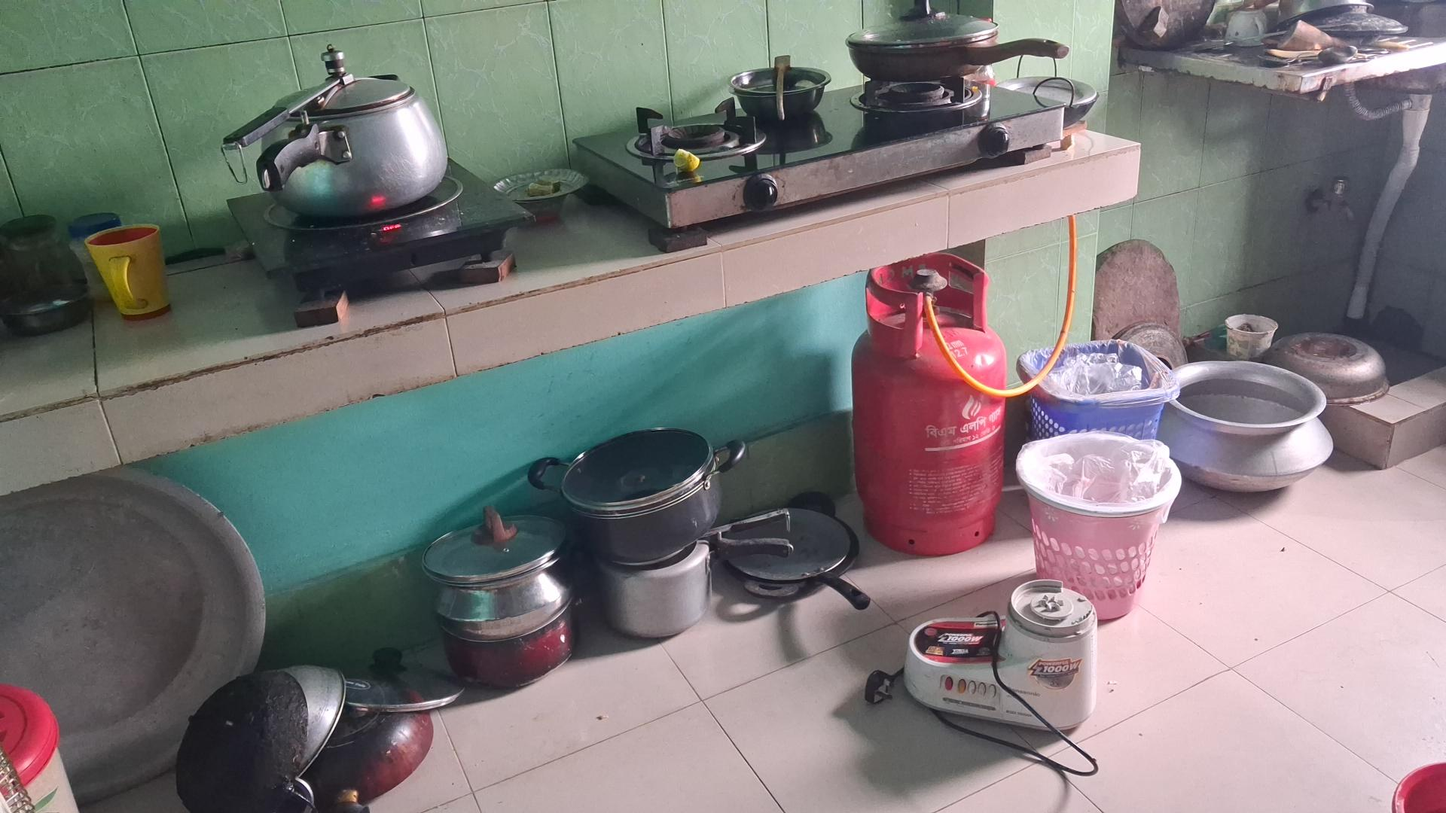Blender: (917, 581, 1095, 732)
Bowl: (726, 70, 824, 125)
Bucket: (1016, 437, 1180, 626), (1013, 340, 1180, 437)
Cooker: (225, 53, 452, 211)
Mug: (83, 235, 179, 318)
Pan: (848, 2, 1076, 83), (722, 505, 877, 614)
Pot: (526, 443, 751, 553), (1187, 356, 1333, 490), (421, 519, 574, 629), (592, 560, 715, 638)
